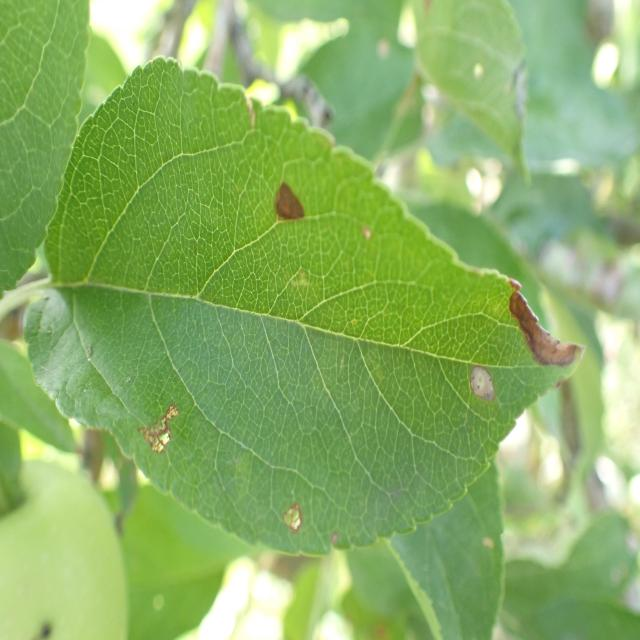Black Rot: (495, 275, 596, 373), (254, 166, 315, 247), (135, 400, 197, 473), (453, 357, 498, 414), (273, 500, 318, 534), (349, 210, 382, 253)
